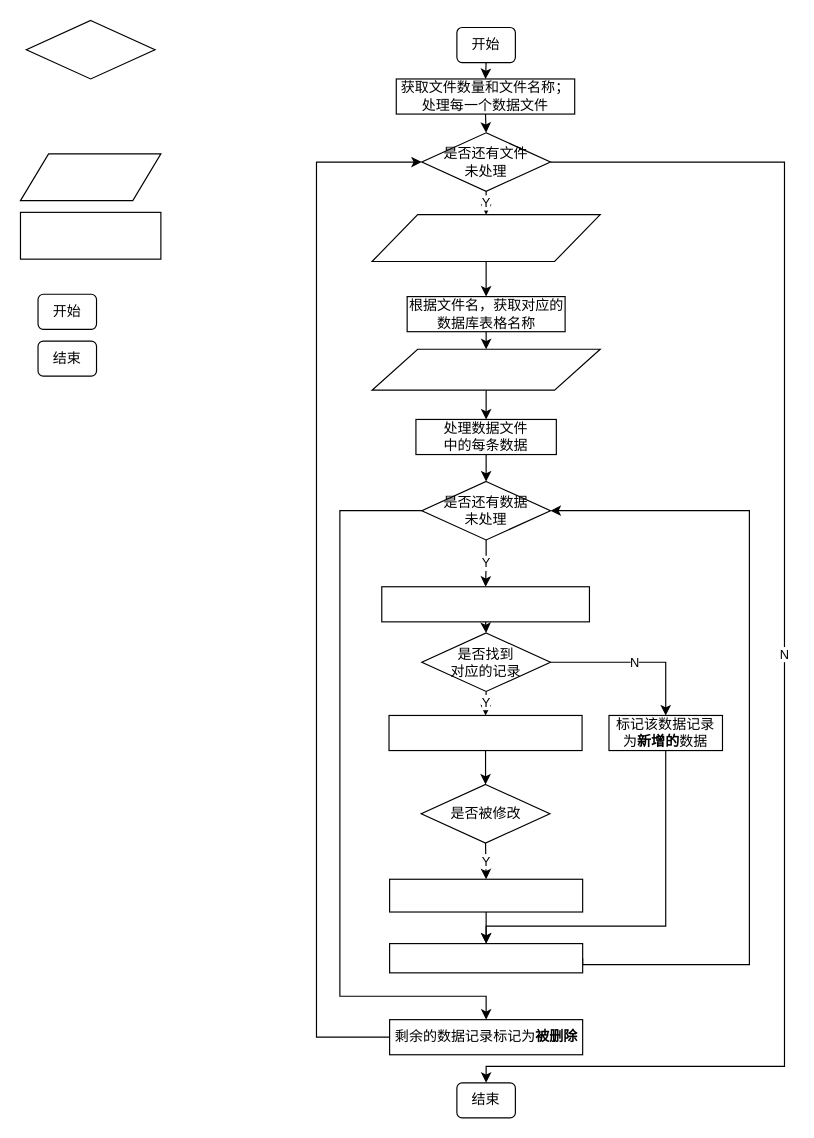
Image size: 814x1138. Some labels were removed from this diagram. The shapes that lost their labels are listed below. From the top down, each one's box as (x1, y1, x2, y2) in pixels, then its label:
(25, 19, 155, 79): 是否存在 身份文件
(371, 214, 600, 261): 读取数据包文件数据， 并将csv格式数据进行转换
(371, 348, 600, 390): 查询数据库数据
(381, 586, 589, 622): 根据数据文件记录的主键查找数据库数据中对应的记录
(388, 714, 582, 751): 比对数据文件数据和 数据库数据的每个字段
(388, 878, 583, 912): 标记该数据记录 被修改
(388, 942, 583, 973): 删除本次处理的数据
